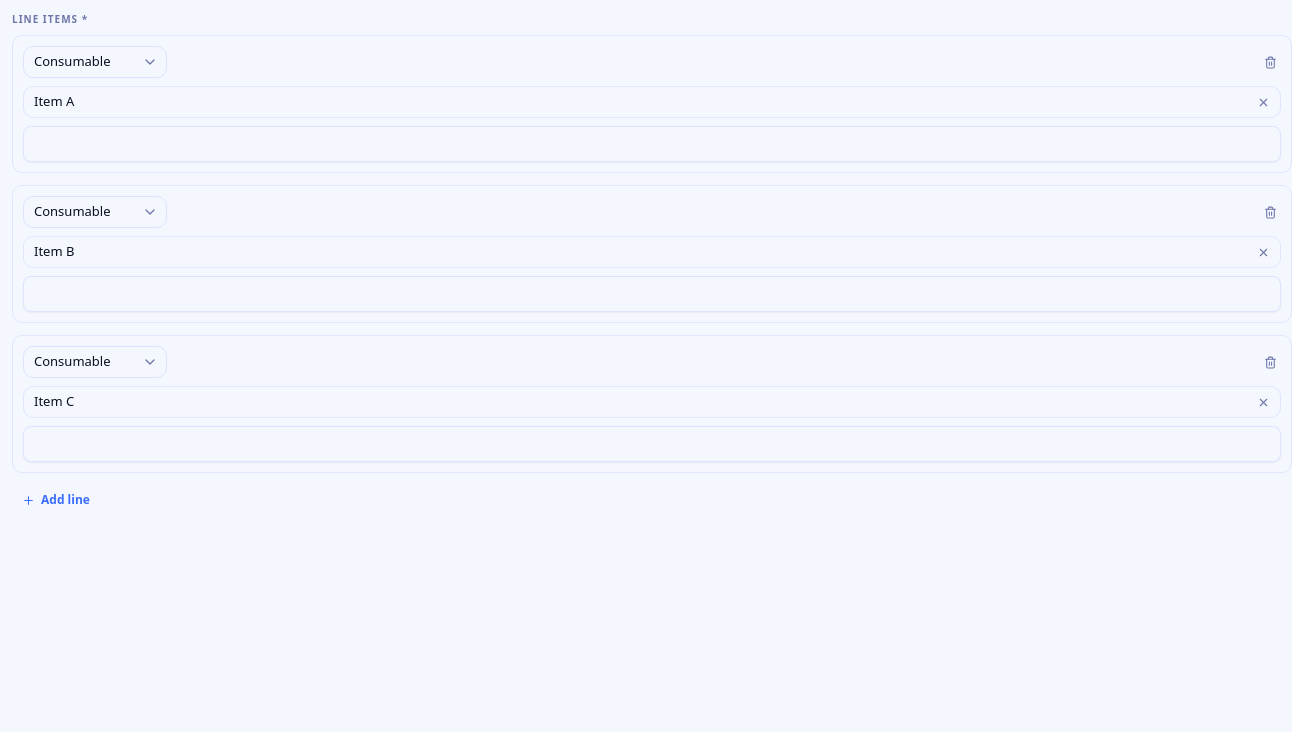
Test: InventoryRequestLineItemsEditor — row identity survives removal › removing the first of three lines preserves DOM node identity for the remaining rows (keyed by draftId, not position)
Expected: the number of number fields is 3, x1=23 y1=126 x2=1281 y2=162; x1=23 y1=276 x2=1281 y2=312; x1=23 y1=426 x2=1281 y2=462
Click the 1st button named "Remove line": click(1270, 62) x1=1260 y1=52 x2=1281 y2=72
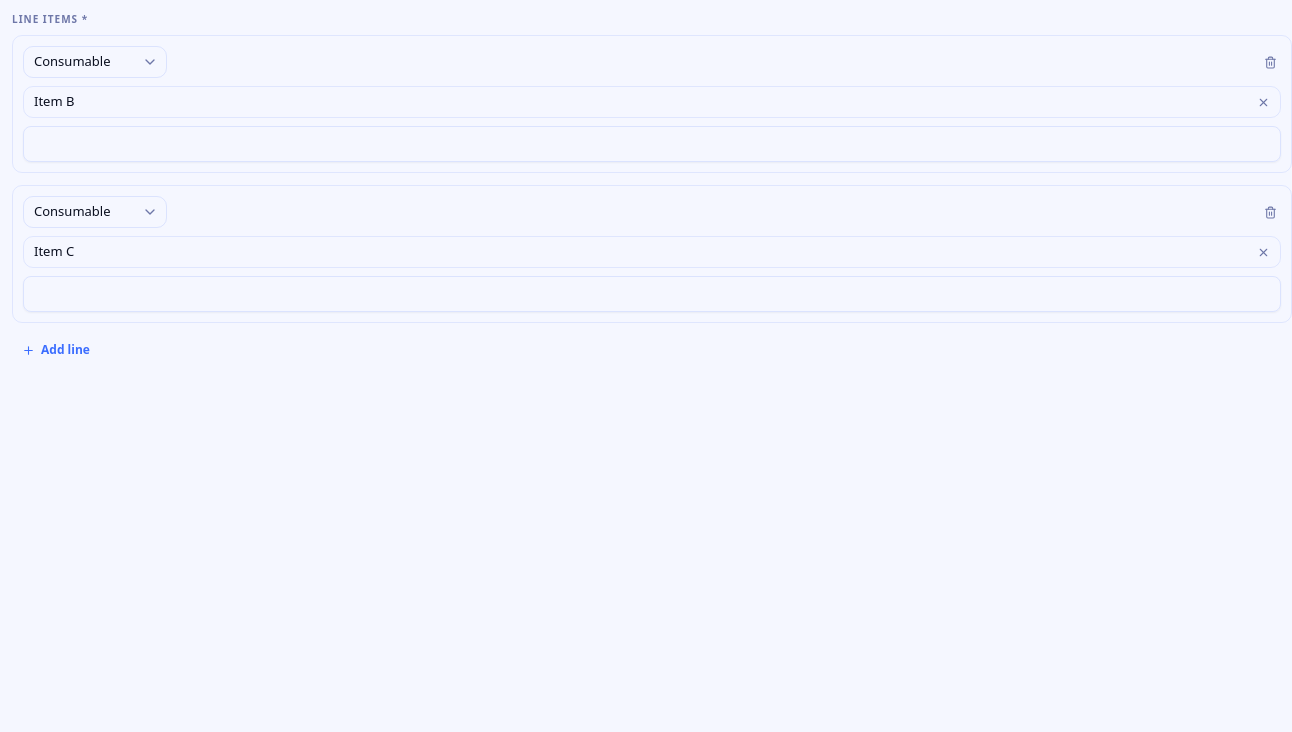
Expected: the text "Item B" is shown, x1=34 y1=92 x2=74 y2=110
Expected: the number of number fields is 2, x1=23 y1=126 x2=1281 y2=162; x1=23 y1=276 x2=1281 y2=312
